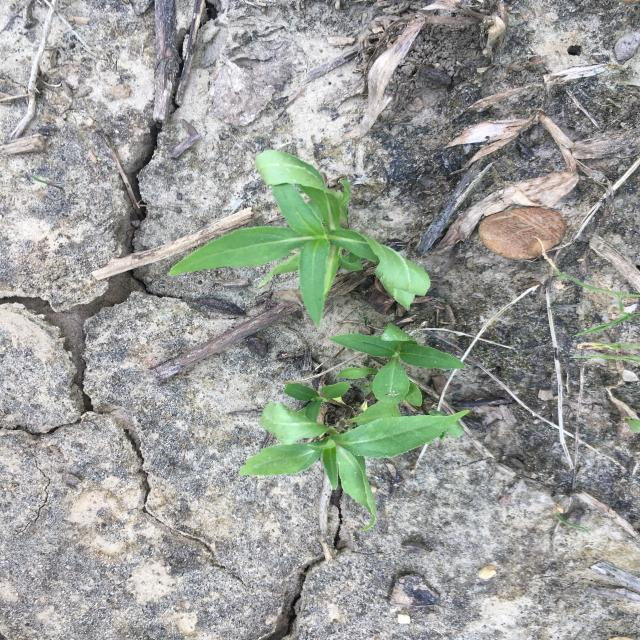Eclipta: (239, 324, 470, 532), (169, 150, 430, 328)
